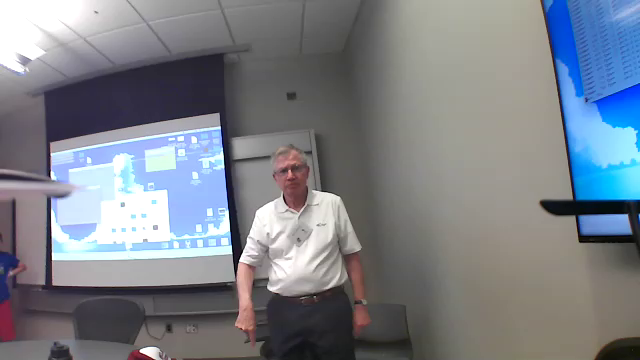down: (226, 292, 264, 351)
